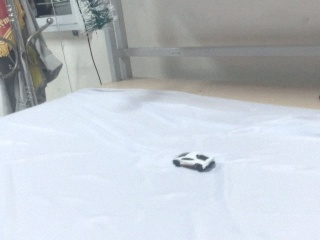toy_car: (173, 152, 216, 172)
